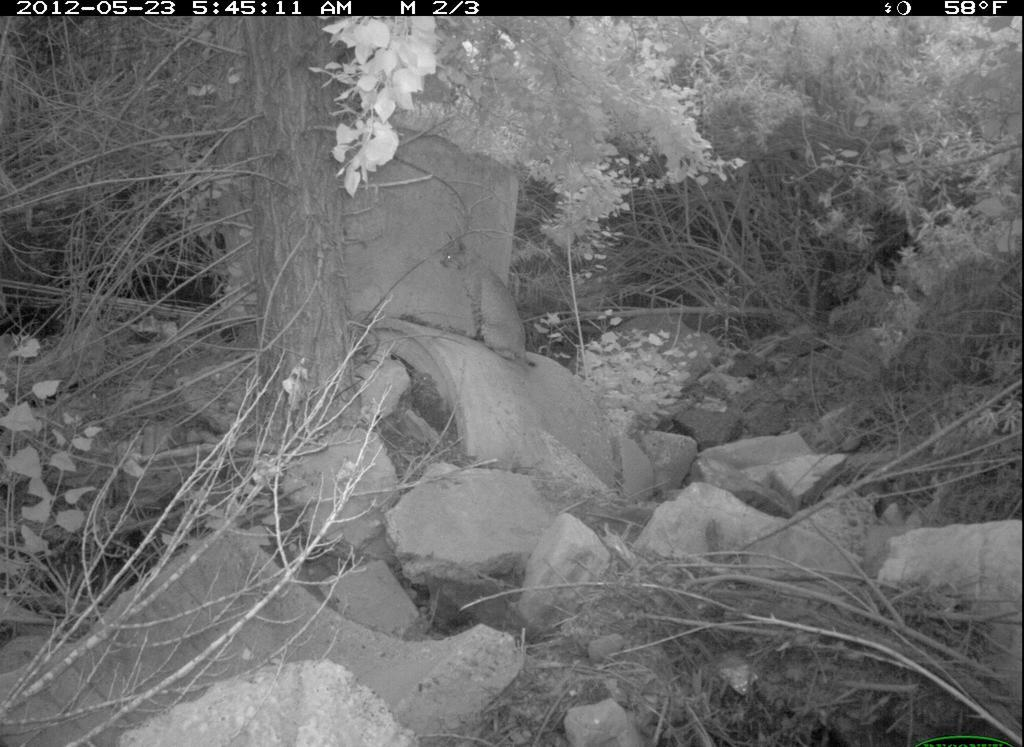bobcat: (436, 221, 550, 377)
